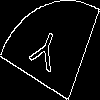Y: (24, 25, 63, 83)
